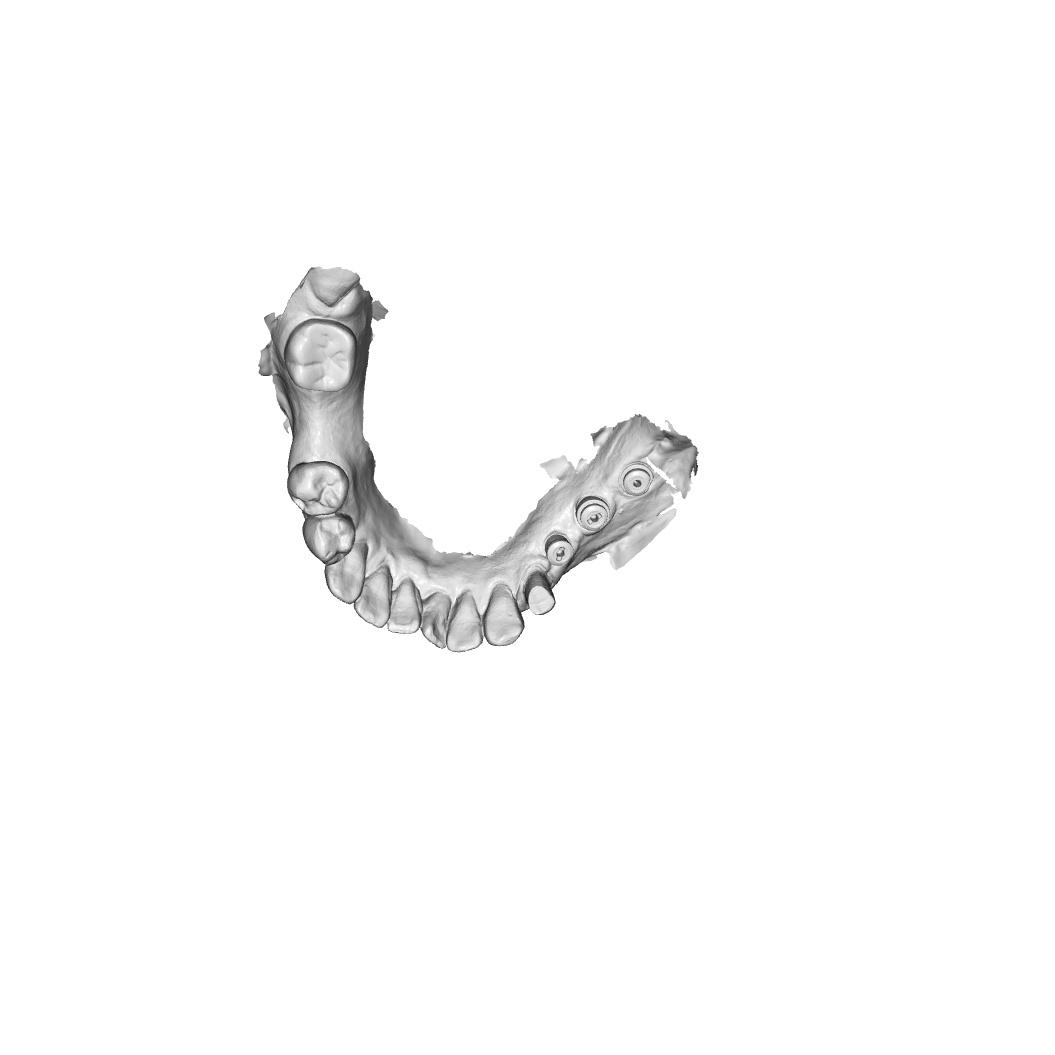abutment: (524, 569, 558, 618)
canine: (322, 544, 369, 606), (482, 582, 526, 647)
implant: (621, 463, 656, 499)
implant_minus: (575, 495, 611, 533), (544, 532, 575, 567)
incisor: (353, 564, 393, 629), (447, 587, 485, 654), (386, 576, 423, 635), (418, 590, 453, 651)
molar: (283, 317, 358, 394)
premolar: (286, 460, 352, 517), (301, 514, 357, 567)
